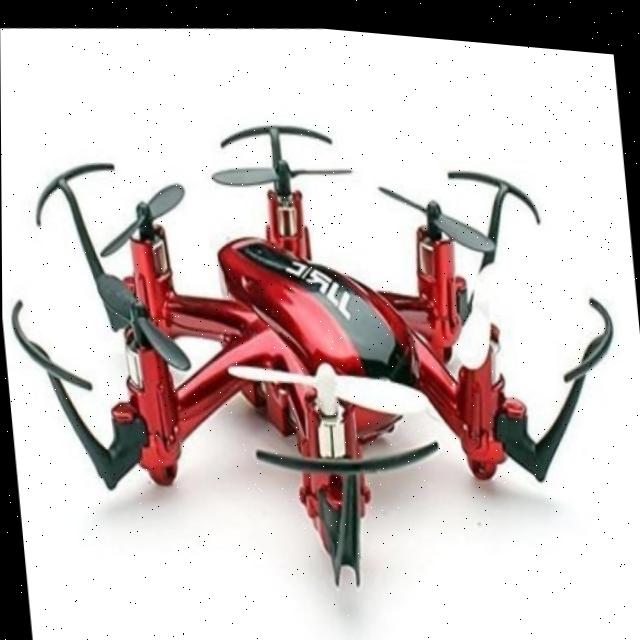drones: (0, 58, 640, 637)
